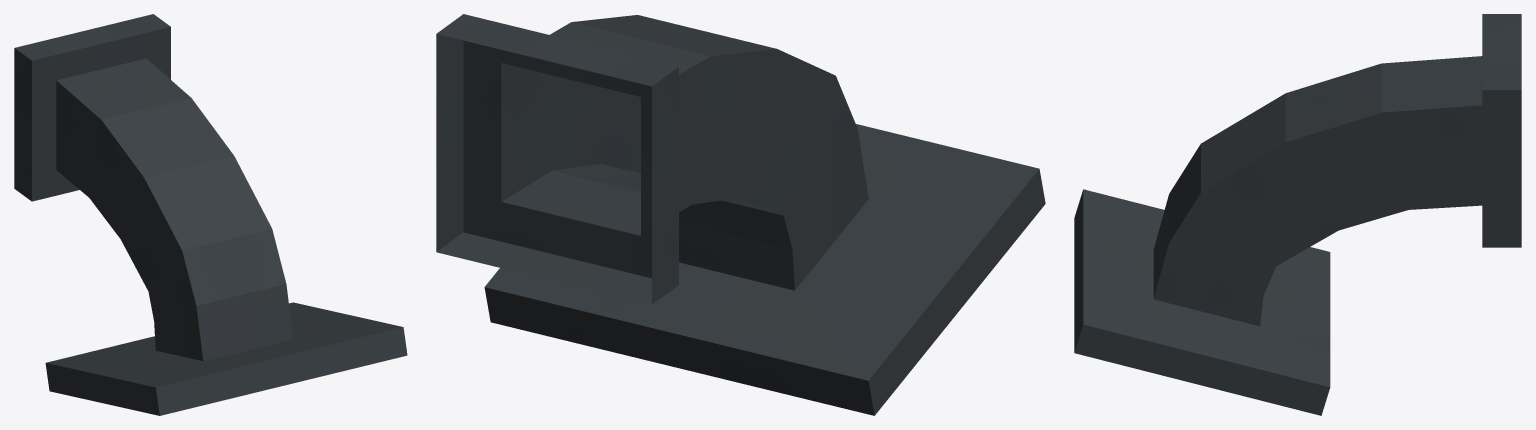
Rendered from Shower_Head.fbx.
The picture shows the model from 3 angles, left to right: view 1: azimuth 30°, elevation 25°; view 2: azimuth 150°, elevation 25°; view 3: azimuth 270°, elevation 25°; orthographic projection. The views are drawn at different scales.
Parts seen in each view (by area): view 1: Shower_Head; view 2: Shower_Head; view 3: Shower_Head.
Boxes of the visible parts, x1,y1,x2,y2 form: Shower_Head: (14,14,407,415); Shower_Head: (436,14,1045,415); Shower_Head: (1074,14,1521,415).
Size of the model in its own units: 0.1592 by 0.1626 by 0.2223.
